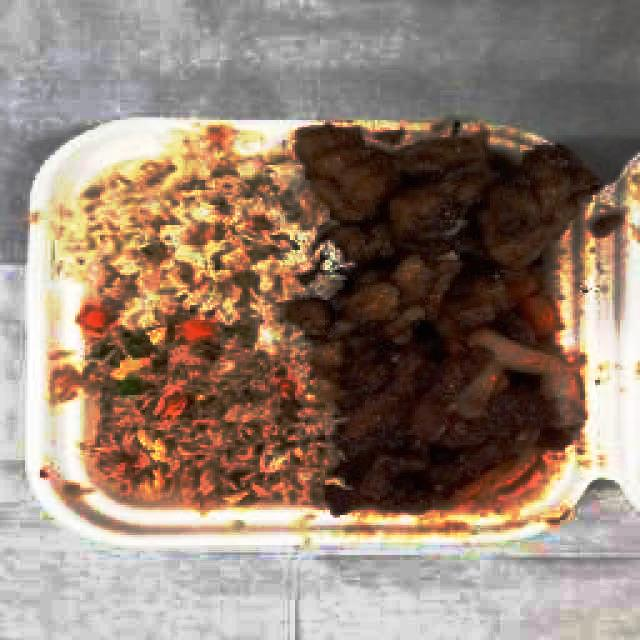Beijing Beef: (335, 329, 591, 513)
Fried Rice: (101, 339, 315, 499)
Kung Pao Chicken: (299, 129, 586, 308)
rice: (90, 164, 296, 325)
